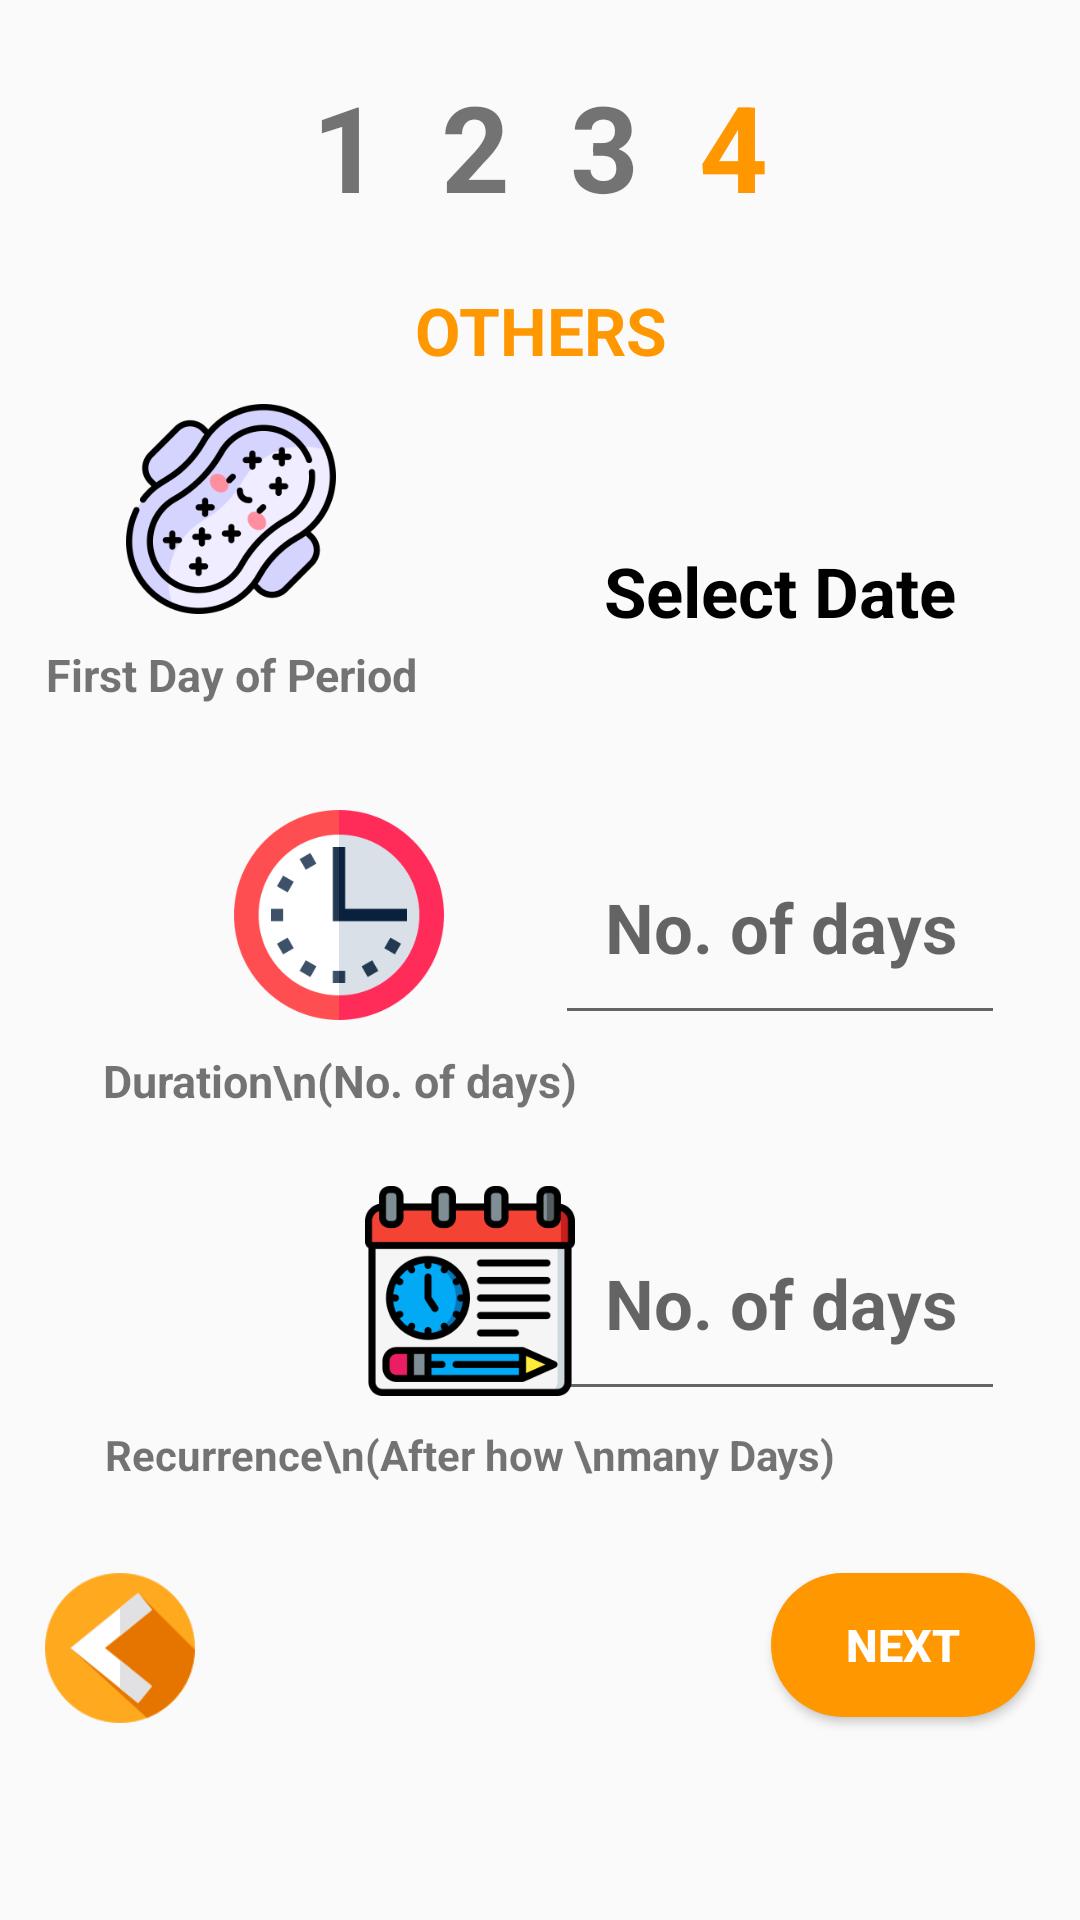

Icon bounding boxes for this 1080 x 1920 phone screenshot, format (x1, y1, x2, y2):
calendar: (365, 1186, 575, 1396)
hour: (234, 810, 444, 1020)
left arrow: (45, 1573, 195, 1723)
sanitary pad: (126, 404, 336, 614)
